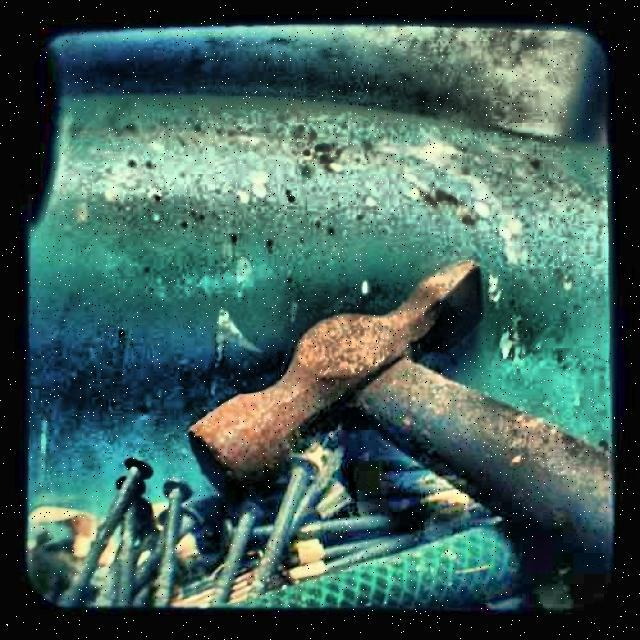hammer: (191, 259, 623, 556)
